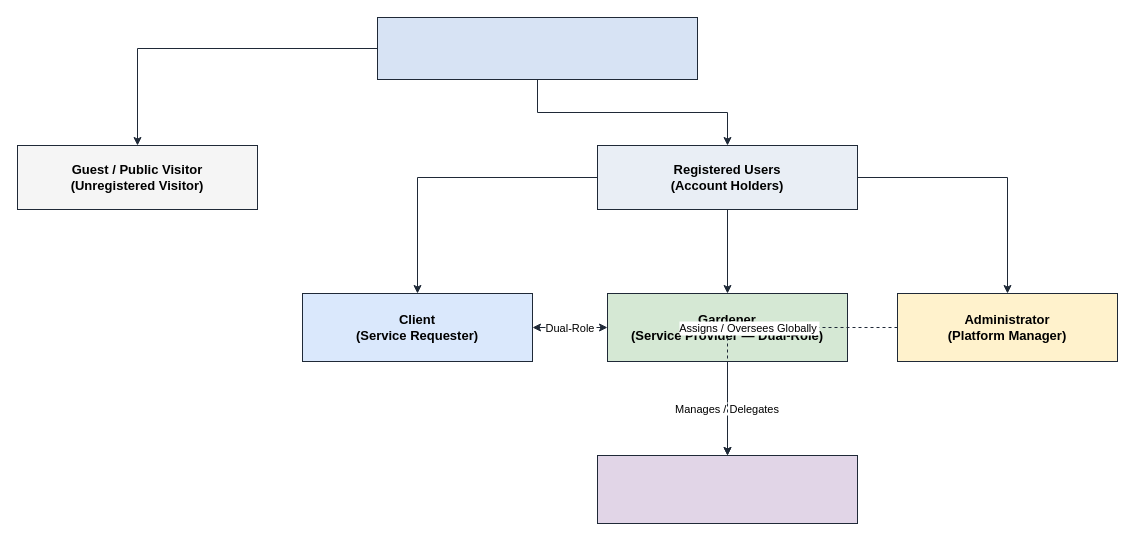
Image size: 1135x541. Some labels were removed from this diagram. The shapes that lost their labels are listed below. From the top down, each one's centre as x and y in pixels, then its label:
At (537,48): "HugaTiera Users (All Platform Participants)".
At (727,489): "Assigned Clerk (Provider-Managed Staff)".
